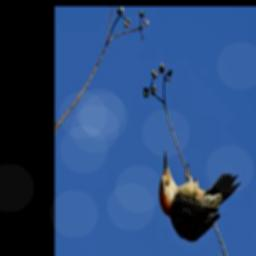Woodpecker: (151, 145, 242, 242)
